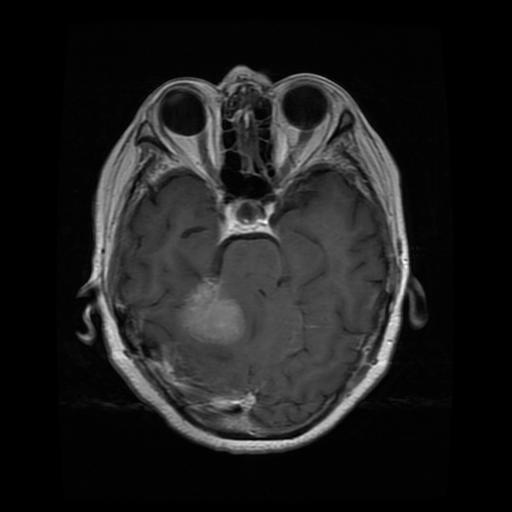Menigiomia_tumour: (182, 275, 245, 344)
